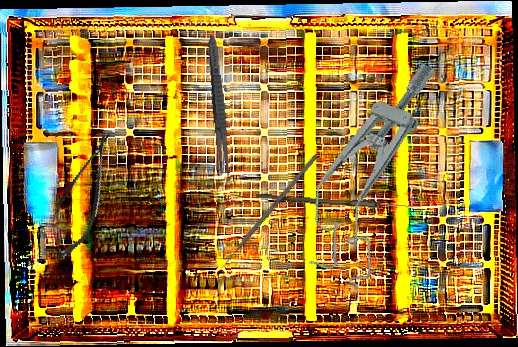Dressing Forceps: (204, 33, 234, 184)
Micro Scissor: (38, 123, 127, 267)
Pusher: (214, 153, 319, 276)
Speculum: (288, 44, 452, 291)
Surgical Spoon: (255, 193, 423, 211)
